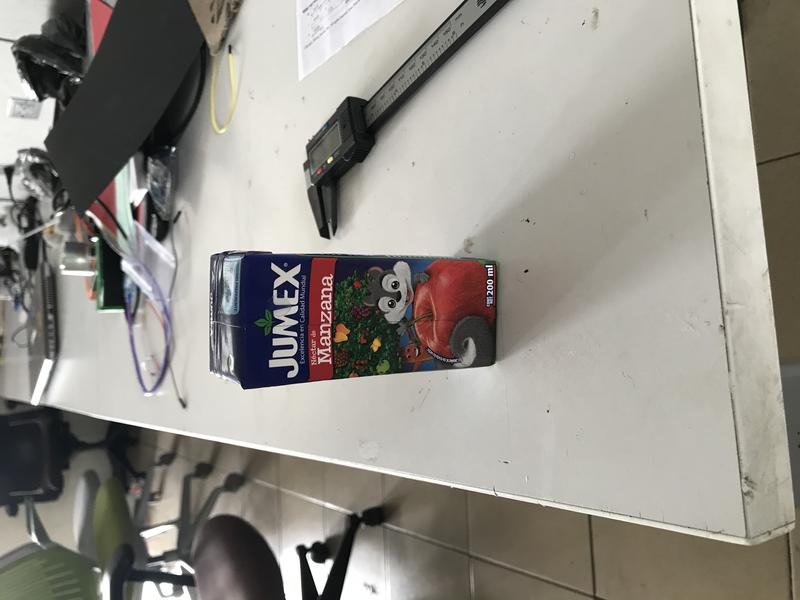jumex_cajita: (208, 249, 503, 390)
